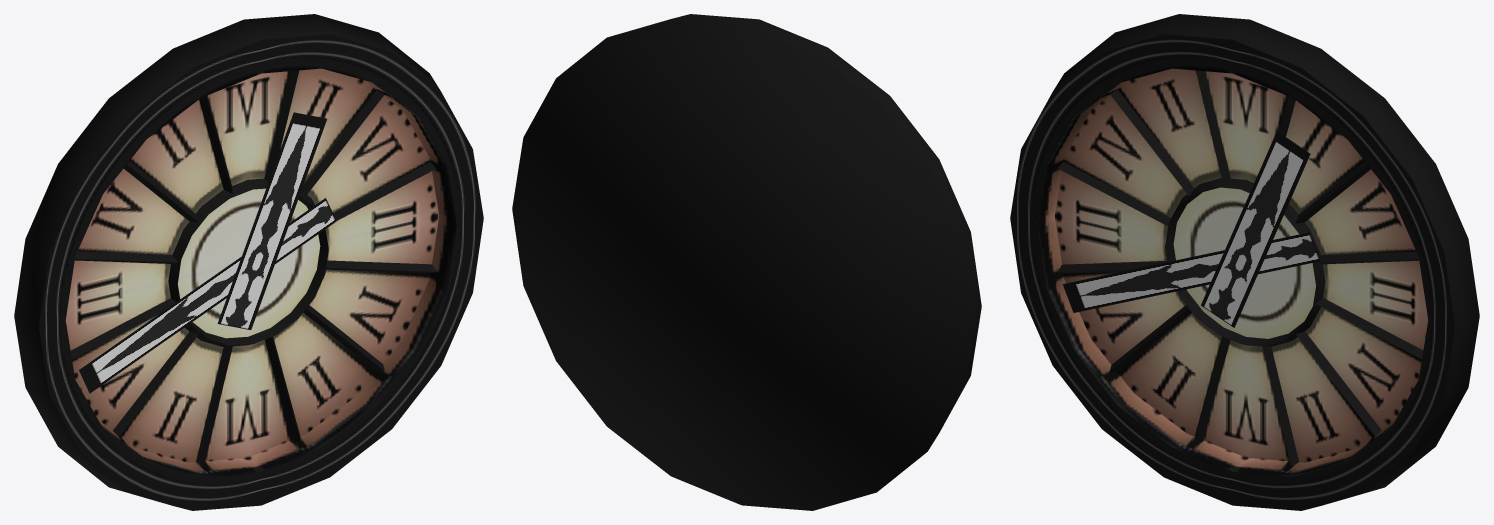
File: AntiqueClock_HD.fbx
The picture shows the model from 3 angles, left to right: view 1: azimuth 30°, elevation 25°; view 2: azimuth 150°, elevation 25°; view 3: azimuth 330°, elevation 25°; orthographic projection.
Parts seen in each view (by area): view 1: AntiqueClock; view 2: AntiqueClock; view 3: AntiqueClock.
Part boxes in pixels (x1=…): AntiqueClock: x1=14, y1=14, x2=483, y2=510; AntiqueClock: x1=512, y1=14, x2=981, y2=510; AntiqueClock: x1=1010, y1=14, x2=1479, y2=510.
Size of the model in its own units: 0.7826 by 0.7826 by 0.0514.
